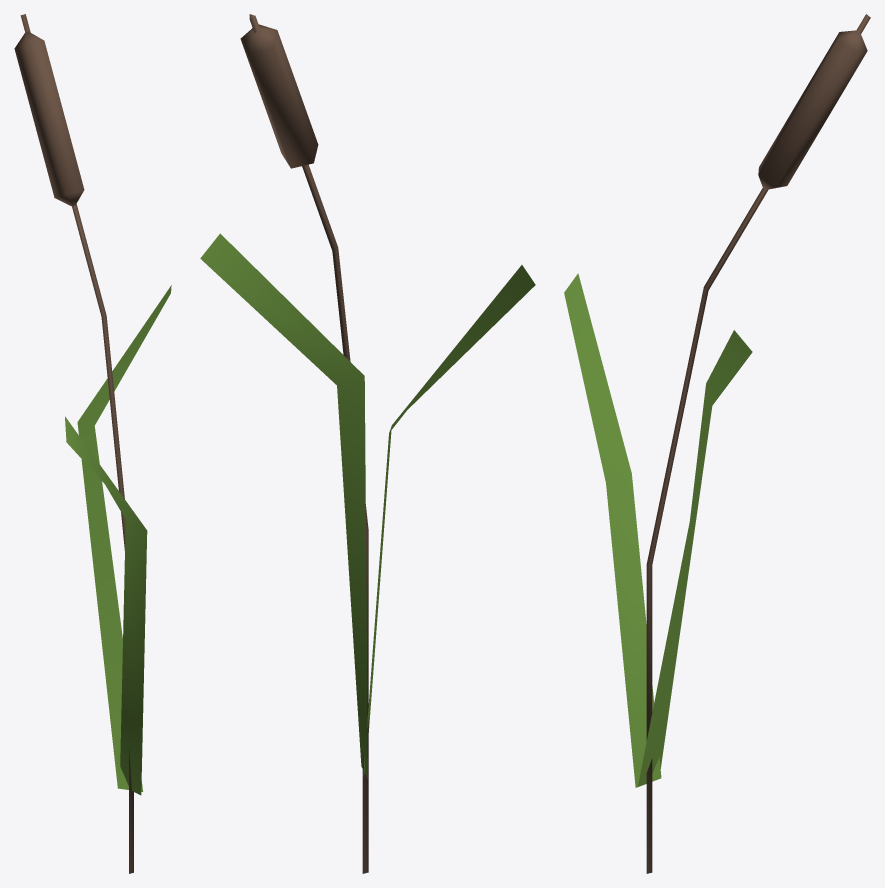
Rendered from Reed_6.fbx.
3 renders of one model, left to right at view 1: azimuth 30°, elevation 25°; view 2: azimuth 150°, elevation 25°; view 3: azimuth 270°, elevation 25°, orthographic. The views are drawn at different scales.
Parts seen in each view (by area): view 1: Reed 6; view 2: Reed 6; view 3: Reed 6.
Boxes of the visible parts, x1=… form: Reed 6: x1=14, y1=14, x2=171, y2=873; Reed 6: x1=200, y1=14, x2=535, y2=873; Reed 6: x1=564, y1=14, x2=870, y2=873.
Bounding box in the file's own units: 52.26 × 205 × 66.83.
